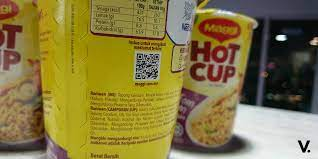qr_code: (134, 51, 160, 81)
